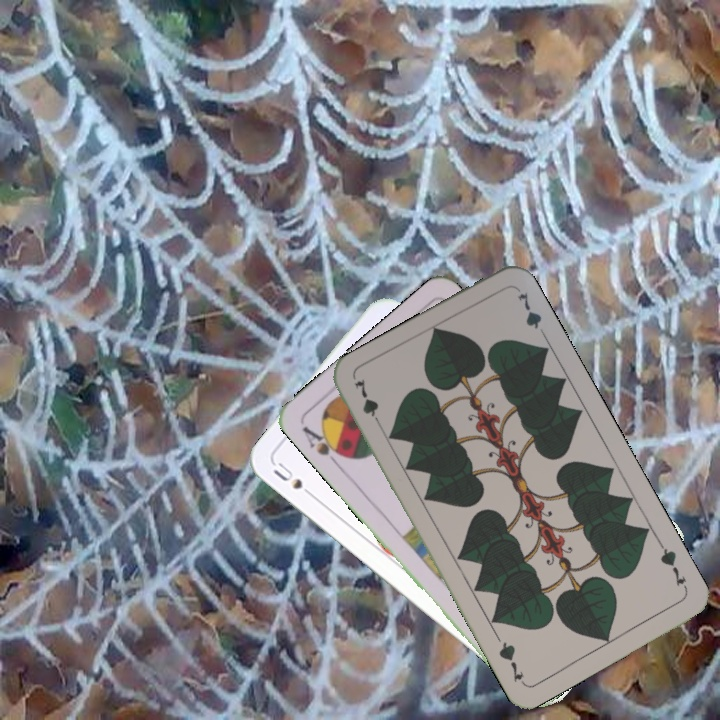G7: (349, 375, 386, 431), (655, 539, 691, 593)
SA: (298, 422, 350, 469)
SU: (269, 458, 320, 502)
